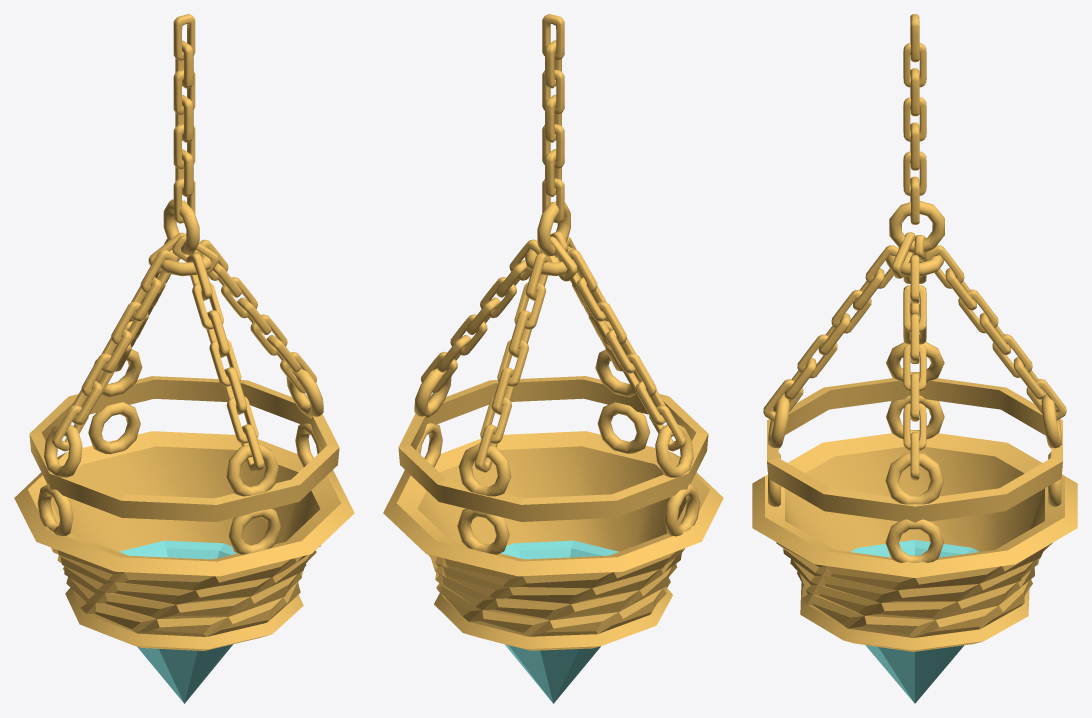
Rendered from M_ShortHangingLantern.fbx.
3 renders of one model, left to right at view 1: azimuth 30°, elevation 25°; view 2: azimuth 150°, elevation 25°; view 3: azimuth 270°, elevation 25°, orthographic.
Parts seen in each view (by area): view 1: HangingLantern, LanternRing, Crystal, Chain08 (×4), Chain01 (×4), Chain07 (×3), Chain02 (×3), Chain06 (×3), Chain03 (×3), LanternHook02, LanternHook05, LanternHook01 (+9 smaller); view 2: HangingLantern, LanternRing, Crystal, Chain08 (×4), Chain01 (×4), Chain02 (×3), Chain07 (×3), Chain06 (×3), Chain03 (×3), LanternHook01, LanternHook06, LanternHook02 (+10 smaller); view 3: HangingLantern, LanternRing, Crystal, Chain08 (×3), Chain01 (×3), Chain03 (×3), Chain06 (×3), Chain07 (×3), Chain02 (×3), LanternHook07, LanternHook03, LanternHook10 (+7 smaller).
Boxes of the visible parts, x1,y1,x2,y2 form: HangingLantern: (14, 431, 354, 650); LanternRing: (29, 376, 339, 521); Crystal: (119, 540, 237, 703); Chain08 (×4): (81, 149, 287, 414); Chain01 (×4): (111, 95, 257, 357); Chain07 (×3): (101, 124, 241, 386); Chain02 (×3): (131, 69, 223, 329); Chain06 (×3): (72, 178, 258, 443); Chain03 (×3): (140, 40, 212, 300); LanternHook02: (88, 402, 140, 454); LanternHook05: (226, 443, 278, 496); LanternHook01: (228, 508, 280, 554); HangingLantern: (383, 431, 723, 650); LanternRing: (398, 376, 708, 521); Crystal: (500, 540, 618, 703); Chain08 (×4): (450, 149, 656, 415); Chain01 (×4): (480, 94, 626, 357); Chain02 (×3): (514, 69, 606, 329); Chain07 (×3): (497, 124, 636, 386); Chain06 (×3): (480, 178, 665, 443); Chain03 (×3): (525, 40, 597, 300); LanternHook01: (597, 402, 650, 453); LanternHook06: (458, 443, 511, 496); LanternHook02: (457, 508, 509, 554); HangingLantern: (752, 433, 1077, 651); LanternRing: (767, 378, 1062, 522); Crystal: (851, 540, 978, 703); Chain08 (×3): (797, 151, 1032, 378); Chain01 (×3): (831, 97, 998, 333); Chain03 (×3): (865, 43, 964, 288); Chain06 (×3): (784, 357, 1045, 450); Chain07 (×3): (818, 312, 1011, 391); Chain02 (×3): (853, 268, 976, 332); LanternHook07: (885, 453, 943, 504); LanternHook03: (885, 519, 943, 562); LanternHook10: (889, 201, 944, 253).
Size of the model in its own units: 93.17 by 207 by 88.61.
